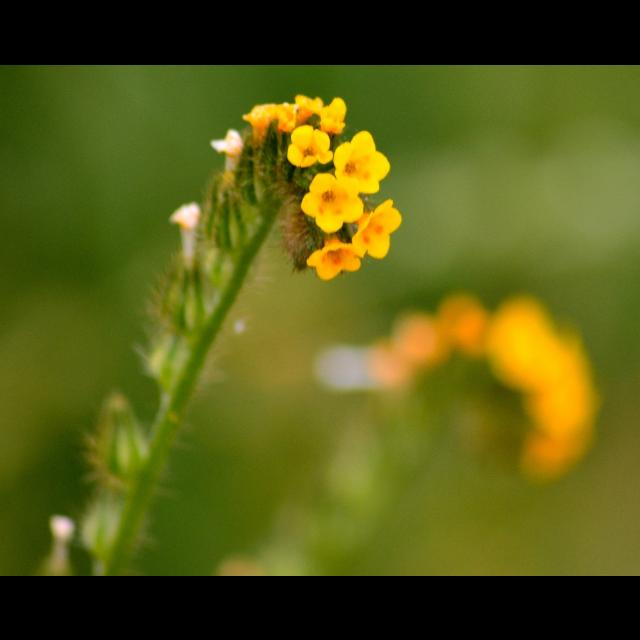Flower: (365, 294, 605, 476), (332, 125, 393, 195), (300, 174, 358, 236), (304, 230, 360, 278), (352, 198, 398, 252), (282, 122, 332, 166), (241, 102, 277, 144), (167, 200, 205, 228), (319, 101, 347, 132), (212, 126, 240, 154), (294, 95, 322, 122), (277, 98, 299, 132)
